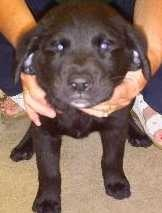dog: (11, 15, 147, 189)
